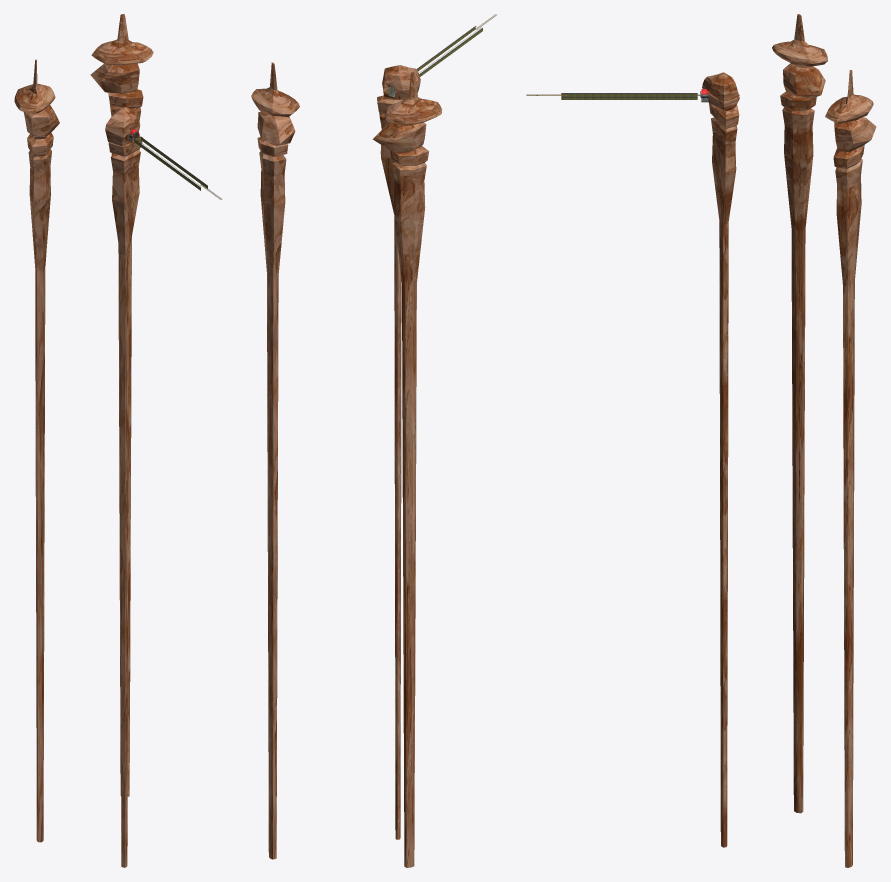
Rendered from STG08_ON_06.obj.
The picture shows the model from 3 angles, left to right: view 1: azimuth 30°, elevation 25°; view 2: azimuth 150°, elevation 25°; view 3: azimuth 270°, elevation 25°; orthographic projection.
Parts seen in each view (by area): view 1: Object_2; view 2: Object_2; view 3: Object_2.
Part boxes in pixels (<box>): Object_2: <box>14,14,222,867</box>; Object_2: <box>251,14,497,867</box>; Object_2: <box>526,14,876,867</box>.
Size of the model in its own units: 5334 by 25462 by 10018.
Materials: 21 (21 with a texture image).
